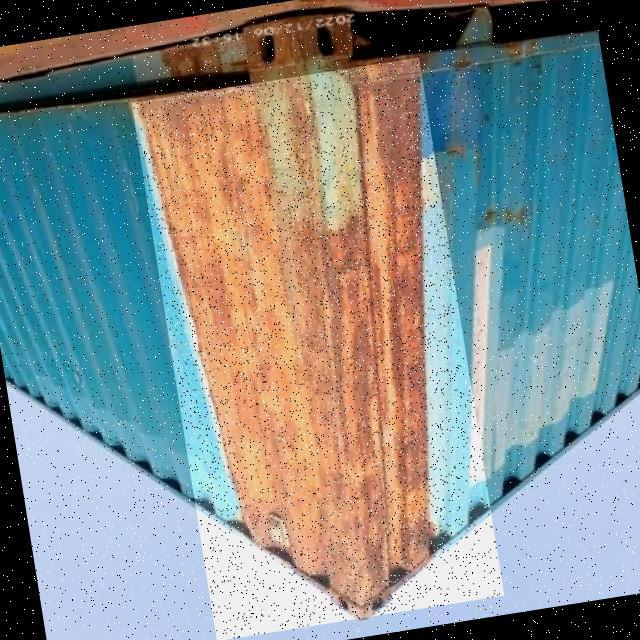Rust: (133, 71, 445, 617)
